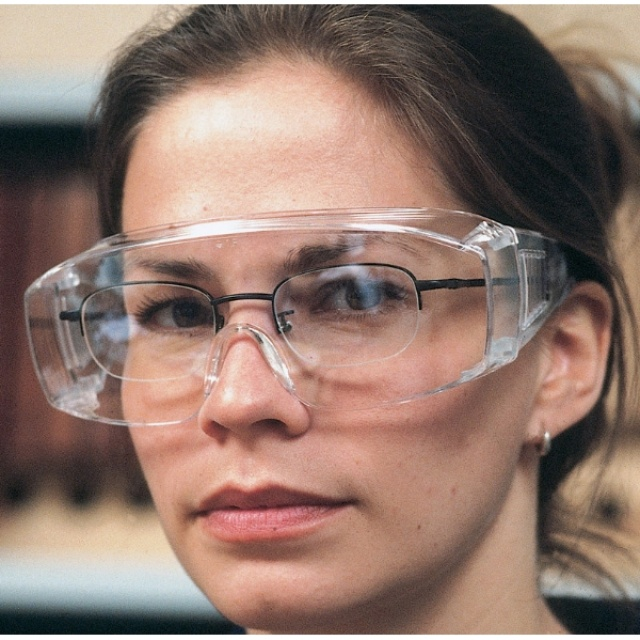Safety_Goggles: (6, 225, 595, 363)
